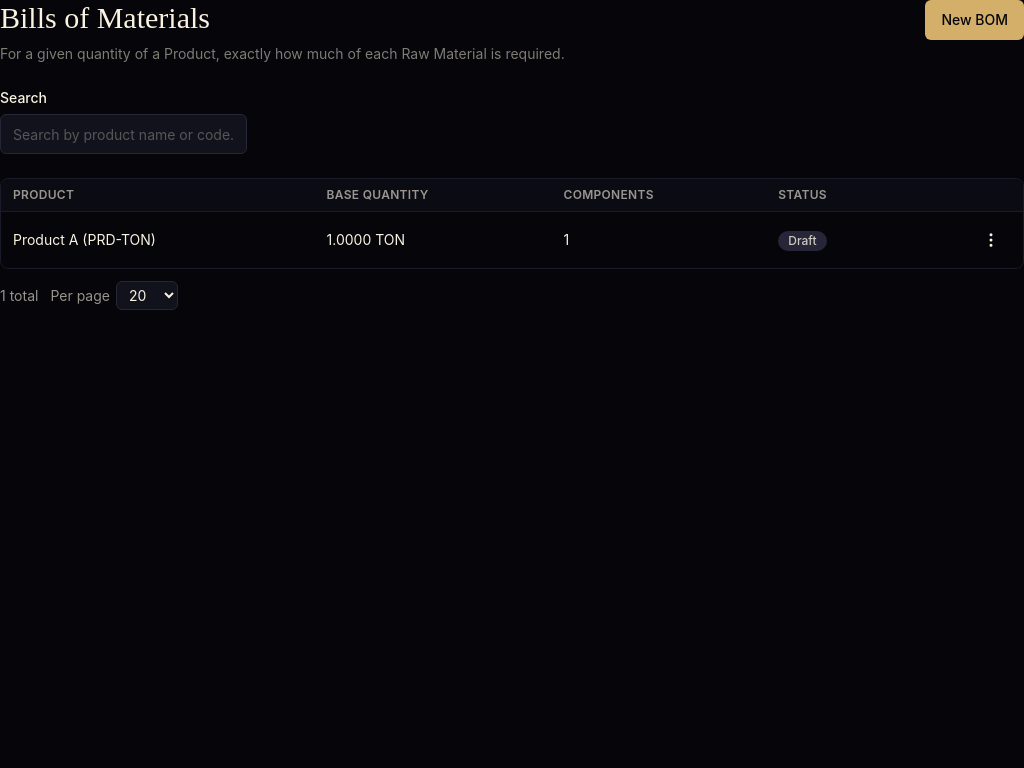
it: BomsPage › managing components: shows conversion status and percentage for an existing component
The image size is (1024, 768).
Expected: the text "Product A (PRD-TON)" is shown, x1=1 y1=212 x2=315 y2=268
What coordinates should you click on to do the following:
click the button named "Actions for"
I would click on:
 (991, 240)
Its box is x1=971 y1=220 x2=1011 y2=260.
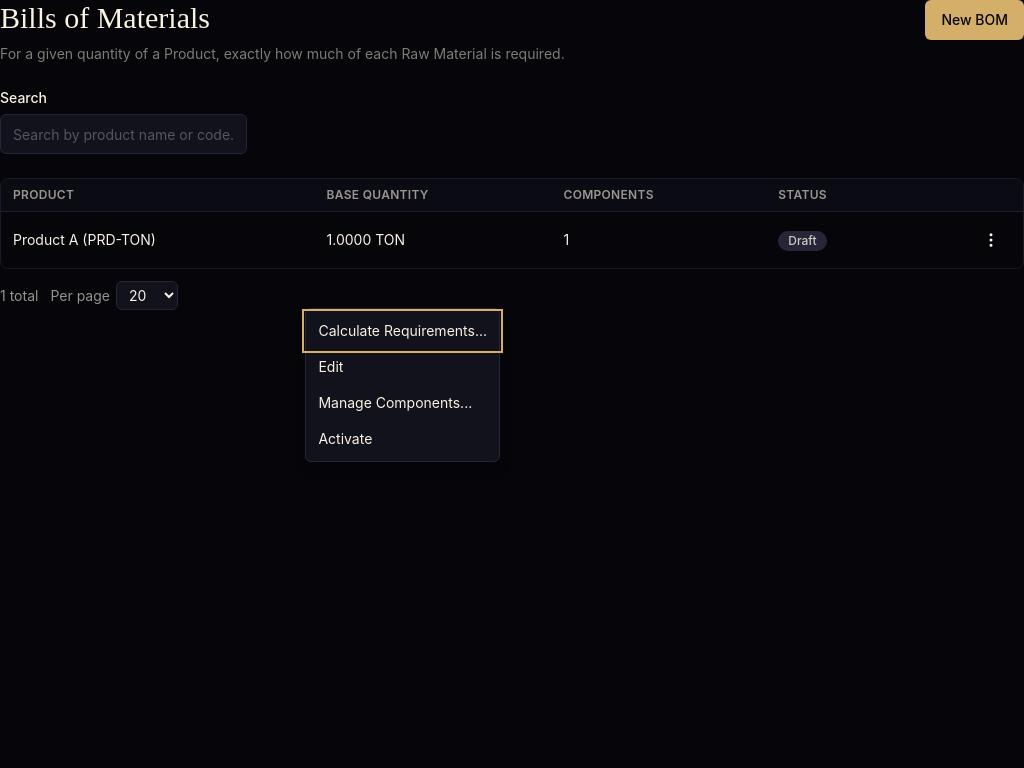
What coordinates should you click on to do the following:
click the menu item "Manage Components..."
I would click on:
 (403, 403)
Its box is x1=306 y1=385 x2=499 y2=421.
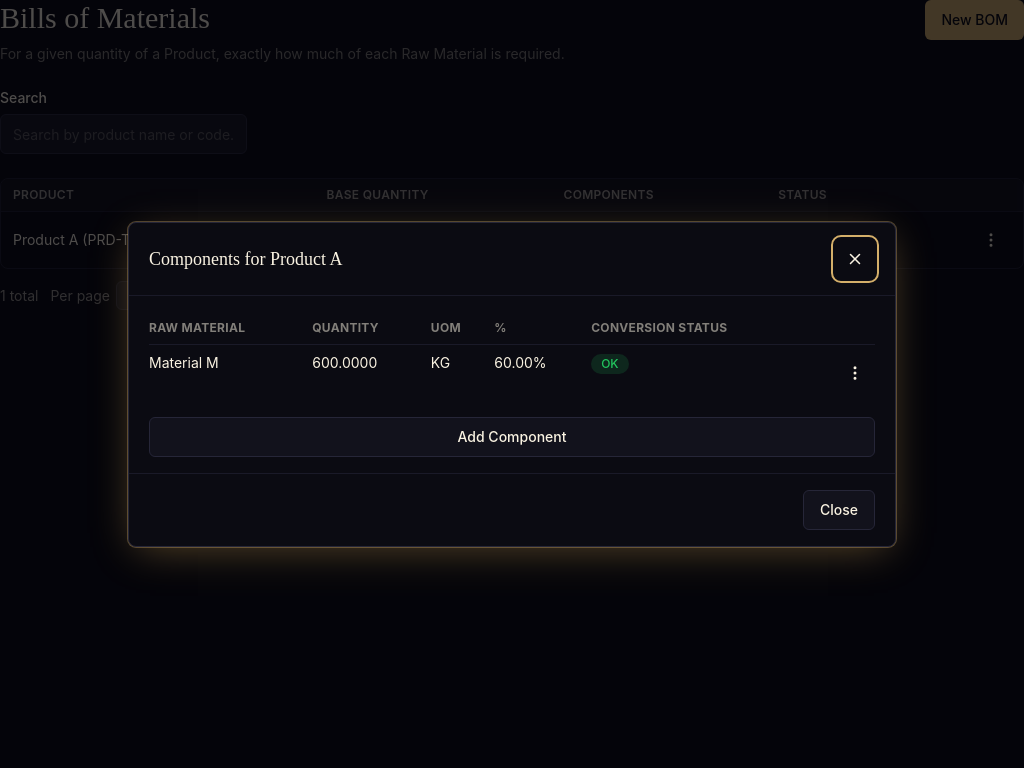
Now the text "Material M" is shown, box x1=149 y1=344 x2=312 y2=400
Now the text "60.00%" is shown, box x1=494 y1=344 x2=591 y2=400
Now the text "OK" is shown, box x1=591 y1=354 x2=629 y2=374
